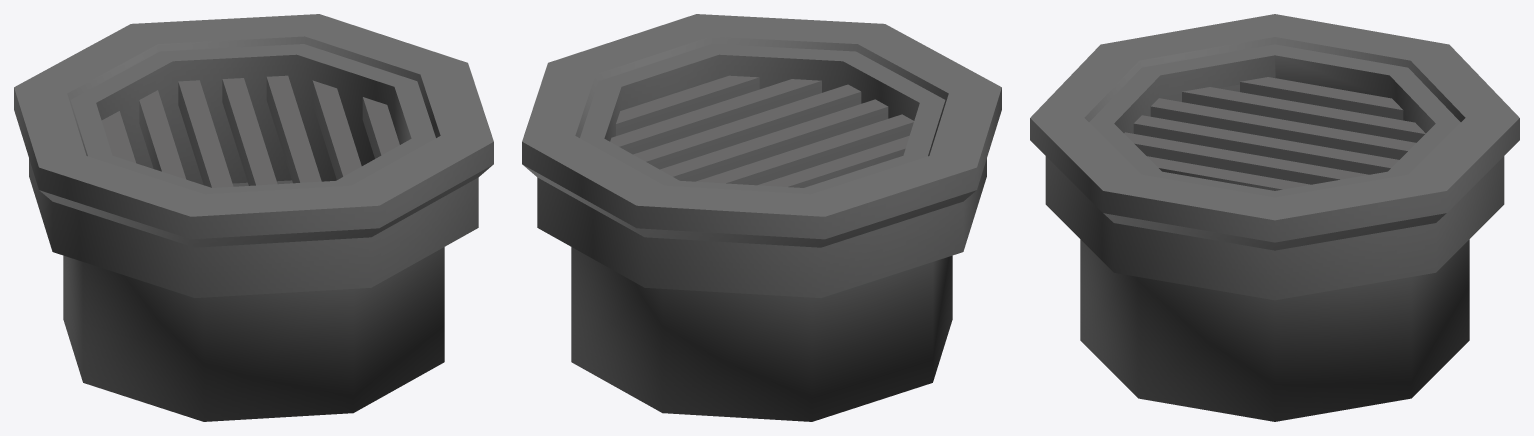
File: vent.glb
The picture shows the model from 3 angles, left to right: view 1: azimuth 30°, elevation 25°; view 2: azimuth 150°, elevation 25°; view 3: azimuth 270°, elevation 25°; orthographic projection.
Parts seen in each view (by area): view 1: Slice.001; view 2: Slice.001; view 3: Slice.001.
Part boxes in pixels (bbox=[...]): Slice.001: bbox=[14, 14, 493, 421]; Slice.001: bbox=[522, 14, 1001, 421]; Slice.001: bbox=[1030, 14, 1519, 421].
Size of the model in its own units: 0.3197 by 0.161 by 0.3207.
1 material, 1 textured.
